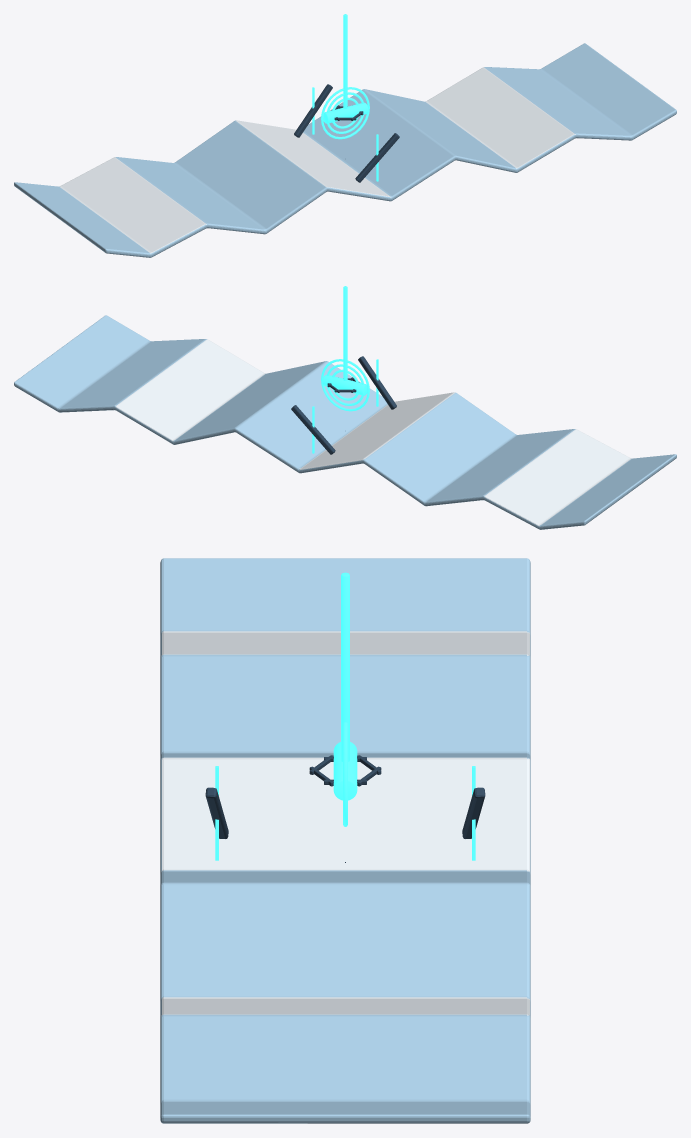
Rendered from Titan_CoreRoute.fbx.
3 renders of one model, top to bottom at view 1: azimuth 30°, elevation 25°; view 2: azimuth 150°, elevation 25°; view 3: azimuth 270°, elevation 25°, orthographic. The views are drawn at different scales.
Parts seen in each view (by area): view 1: MainRoute, TitanReactor_Core, TitanReactor_SkyBeam, CoreMonument_1, CoreMonument_-1, TitanReactor_Ring_02; view 2: MainRoute, TitanReactor_Core, TitanReactor_SkyBeam, CoreMonument_-1, CoreMonument_1, TitanReactor_Ring_02; view 3: MainRoute, TitanReactor_SkyBeam, TitanReactor_Core.
Part boxes in pixels (x1=…): MainRoute: x1=14, y1=43, x2=676, y2=257; TitanReactor_Core: x1=323, y1=102, x2=368, y2=123; TitanReactor_SkyBeam: x1=343, y1=14, x2=347, y2=108; CoreMonument_1: x1=294, y1=84, x2=332, y2=137; CoreMonument_-1: x1=355, y1=133, x2=399, y2=182; TitanReactor_Ring_02: x1=321, y1=87, x2=369, y2=139; MainRoute: x1=14, y1=315, x2=676, y2=529; TitanReactor_Core: x1=322, y1=374, x2=367, y2=395; TitanReactor_SkyBeam: x1=343, y1=286, x2=347, y2=380; CoreMonument_-1: x1=358, y1=356, x2=396, y2=409; CoreMonument_1: x1=291, y1=405, x2=335, y2=454; TitanReactor_Ring_02: x1=321, y1=359, x2=369, y2=411; MainRoute: x1=160, y1=558, x2=530, y2=1123; TitanReactor_SkyBeam: x1=341, y1=572, x2=349, y2=761; TitanReactor_Core: x1=333, y1=742, x2=357, y2=800.
Bounding box in the file's own units: 5350 × 1389 × 1500.
